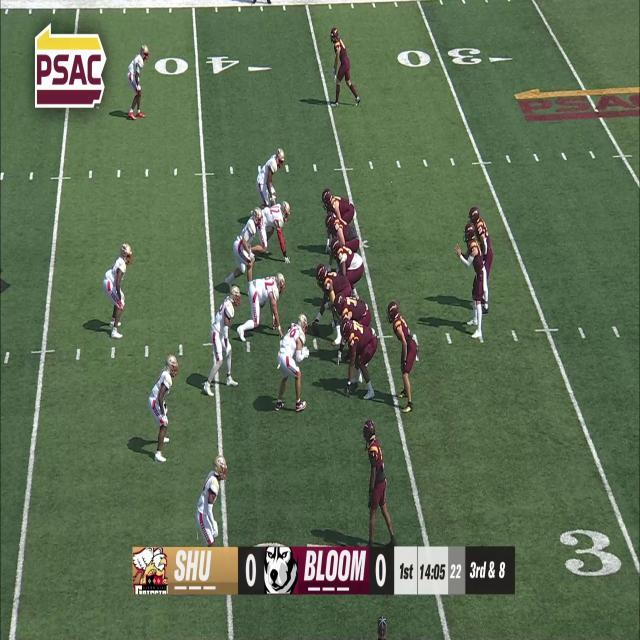football: (312, 318, 322, 337)
